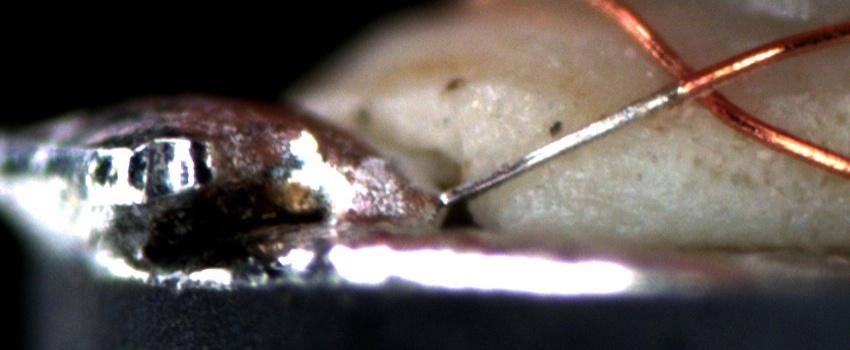CL: (655, 49, 743, 115)
TS: (442, 84, 682, 203)
